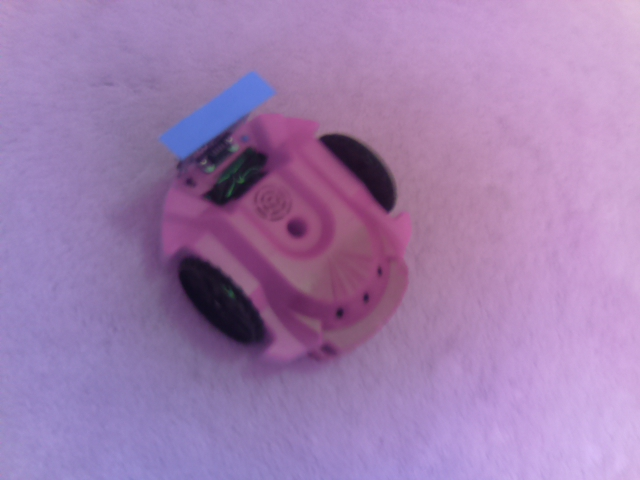board: (158, 73, 282, 166)
chassis: (158, 71, 422, 374)
